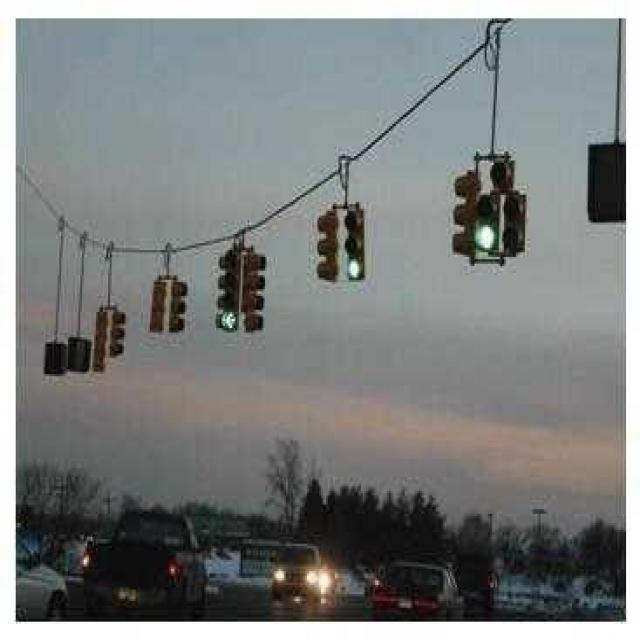red_light: (216, 248, 242, 335), (345, 204, 368, 282)
